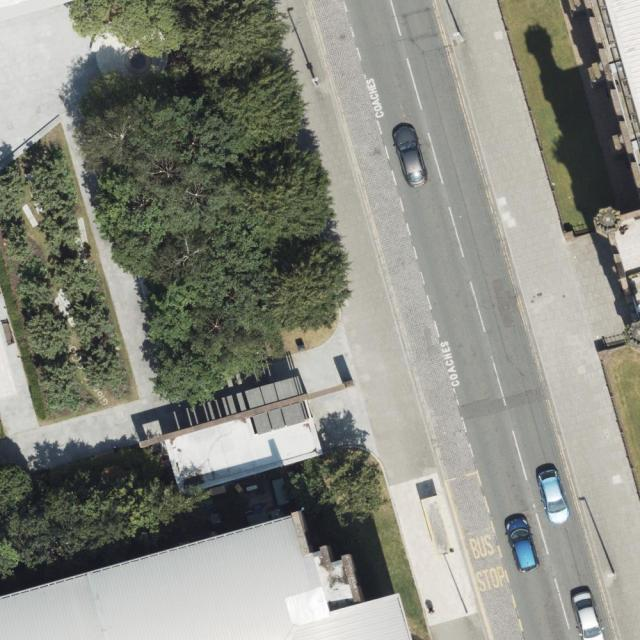roof: (0, 510, 413, 639), (164, 373, 325, 497), (582, 0, 640, 193), (597, 206, 640, 348)
